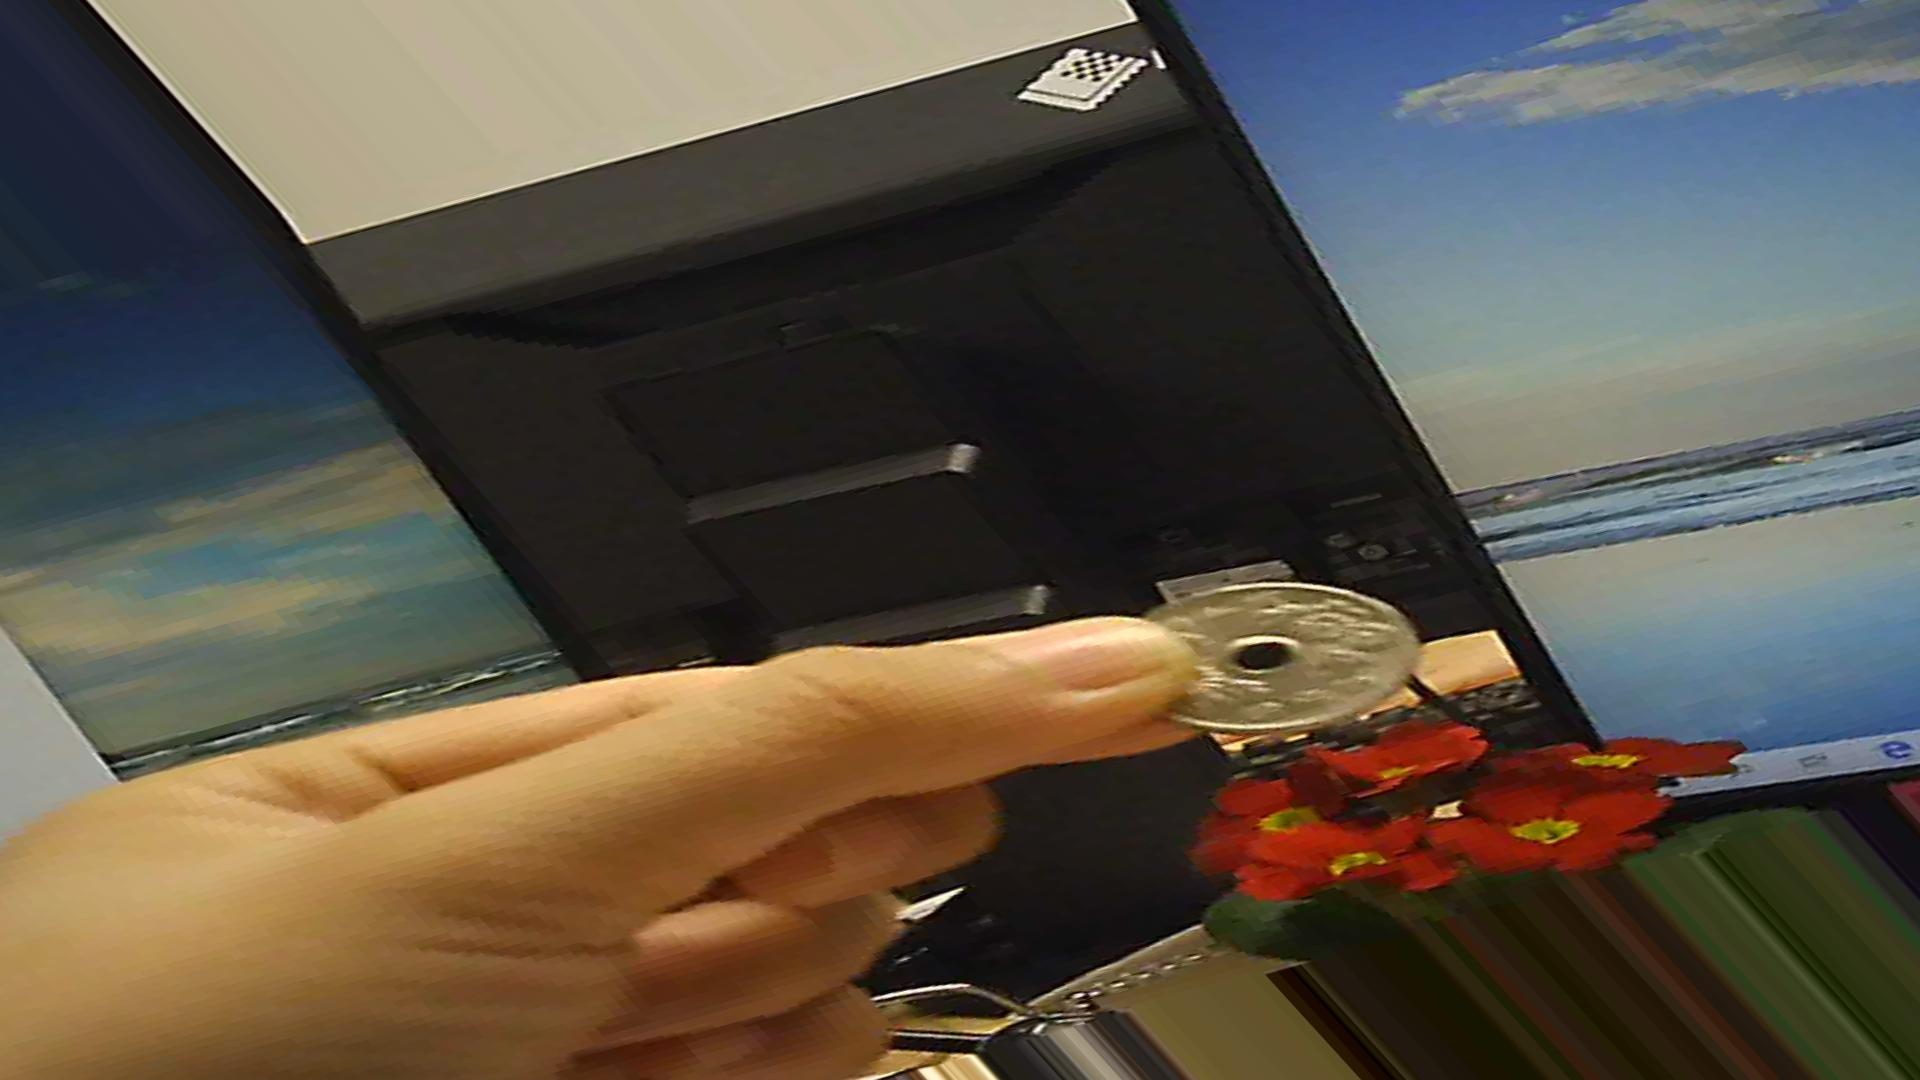50 Yen: (1116, 575, 1416, 733)
